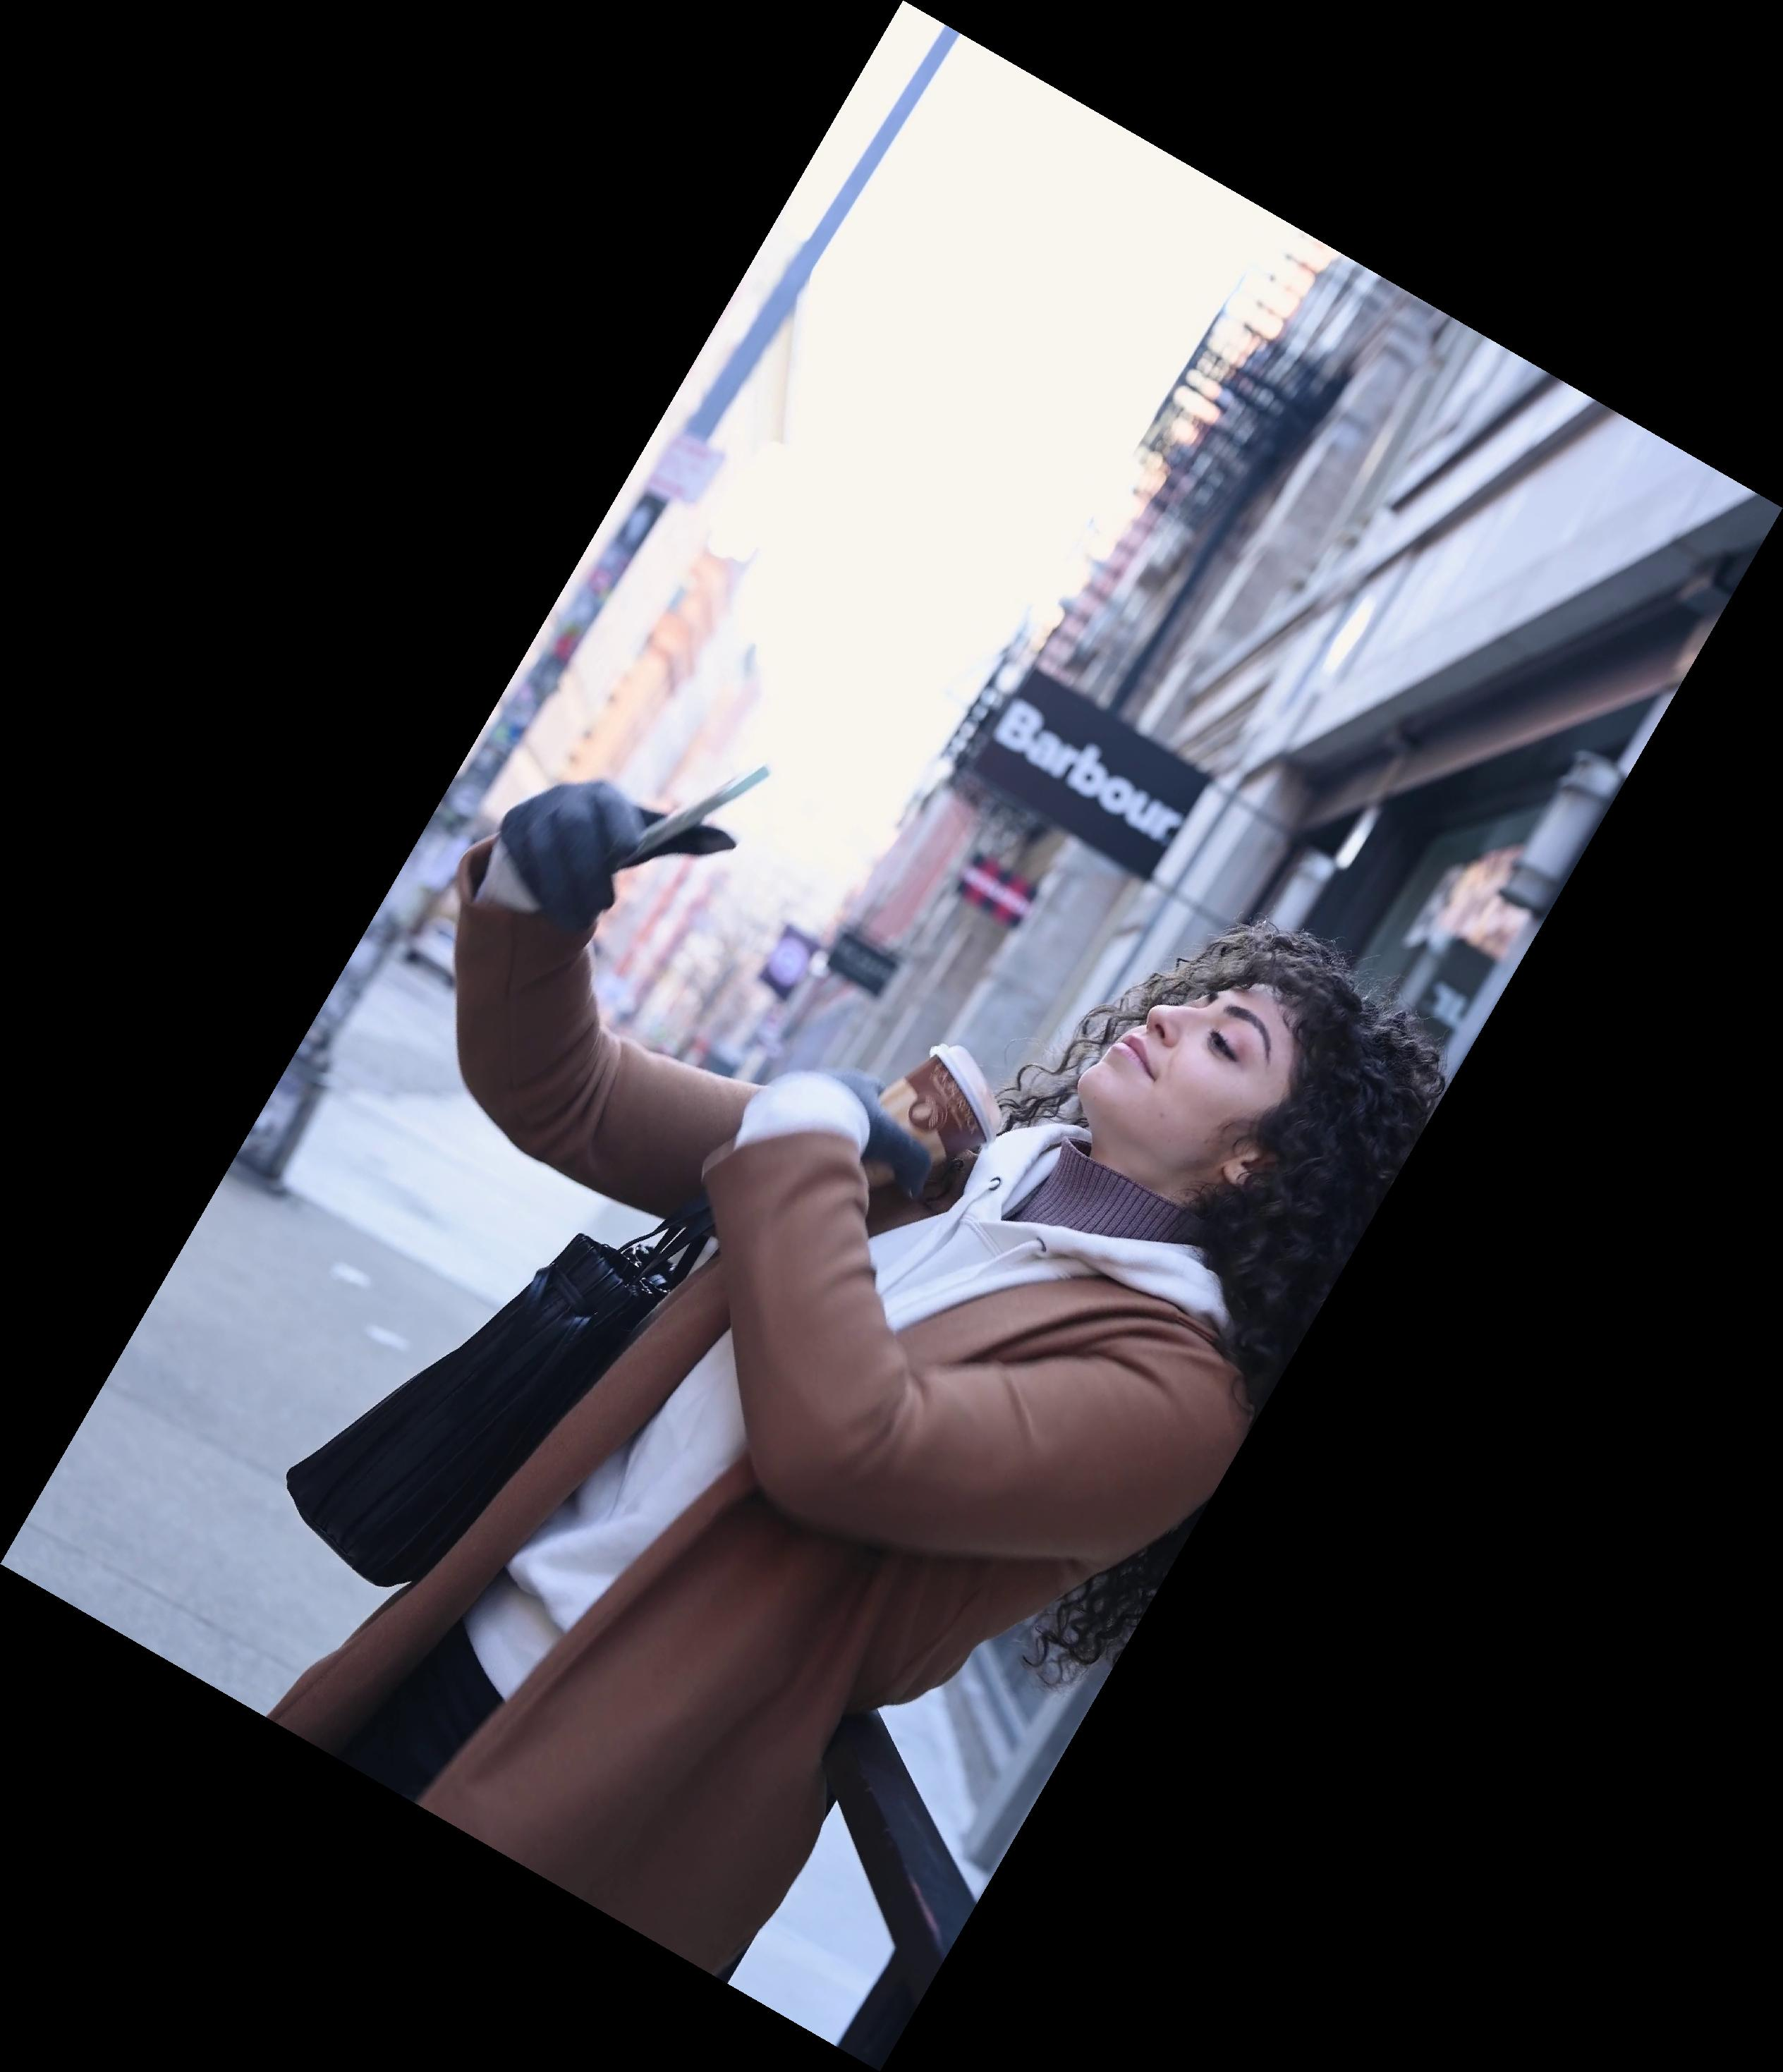phone: (601, 749, 789, 884)
